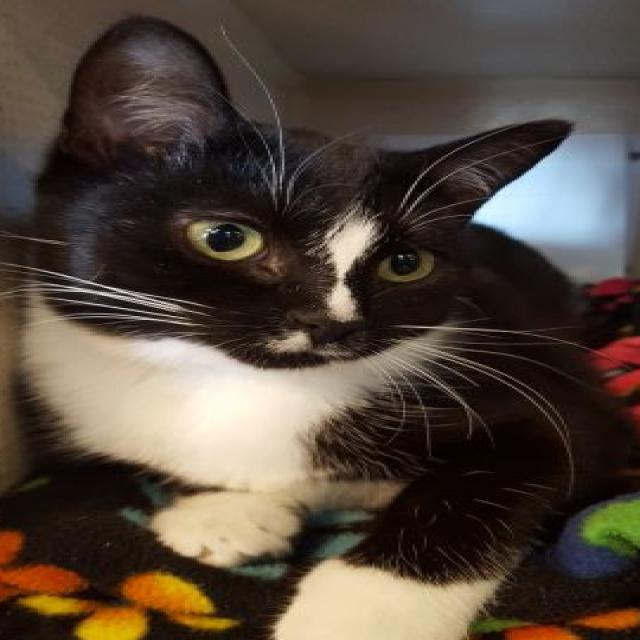Tuxedo: (2, 10, 632, 640)
